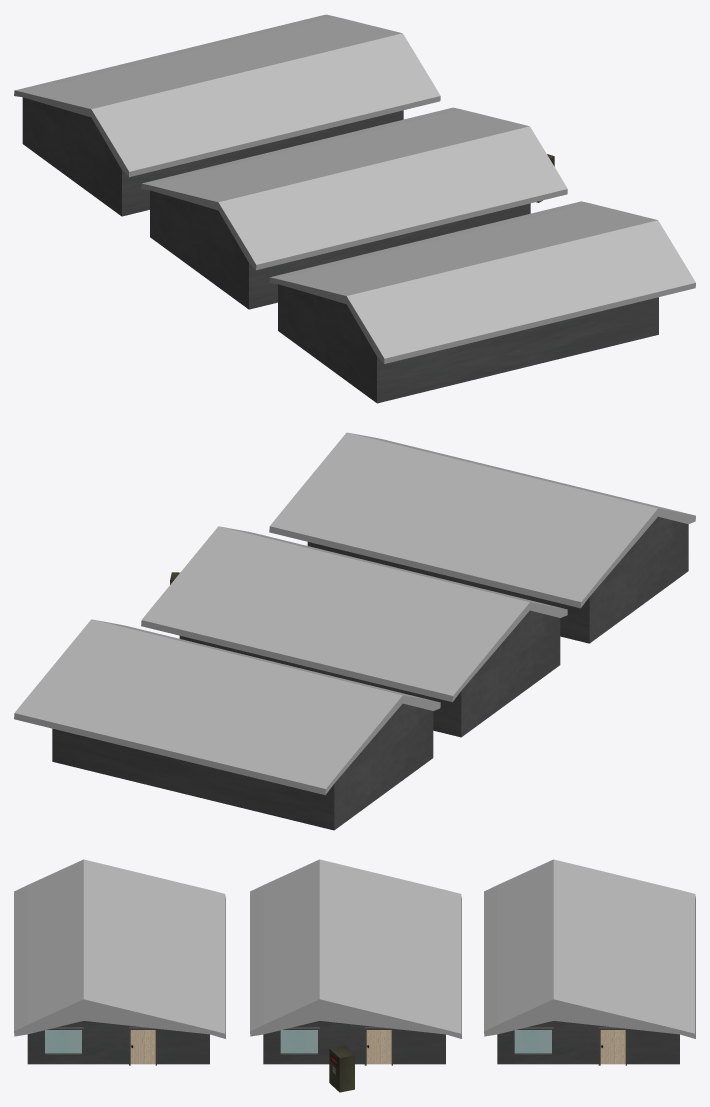
The picture shows the model from 3 angles, top to bottom: view 1: azimuth 30°, elevation 25°; view 2: azimuth 150°, elevation 25°; view 3: azimuth 270°, elevation 25°; orthographic projection. The views are drawn at different scales.
Parts seen in each view (by area): view 1: House_001, House_002, House_003; view 2: House_003, House_001, House_002; view 3: House_003, House_001, House_002, Databox_001.
Part boxes in pixels (x1=…): House_001: x1=269, y1=201, x2=695, y2=403; House_002: x1=141, y1=107, x2=567, y2=309; House_003: x1=14, y1=14, x2=440, y2=216; House_003: x1=14, y1=619, x2=440, y2=830; House_001: x1=269, y1=432, x2=695, y2=643; House_002: x1=141, y1=526, x2=567, y2=737; House_003: x1=484, y1=859, x2=695, y2=1065; House_001: x1=14, y1=859, x2=225, y2=1065; House_002: x1=250, y1=859, x2=461, y2=1065; Databox_001: x1=329, y1=1045, x2=354, y2=1092.
Size of the model in its own units: 17.54 by 32.41 by 4.1.
2 materials, 2 textured.
